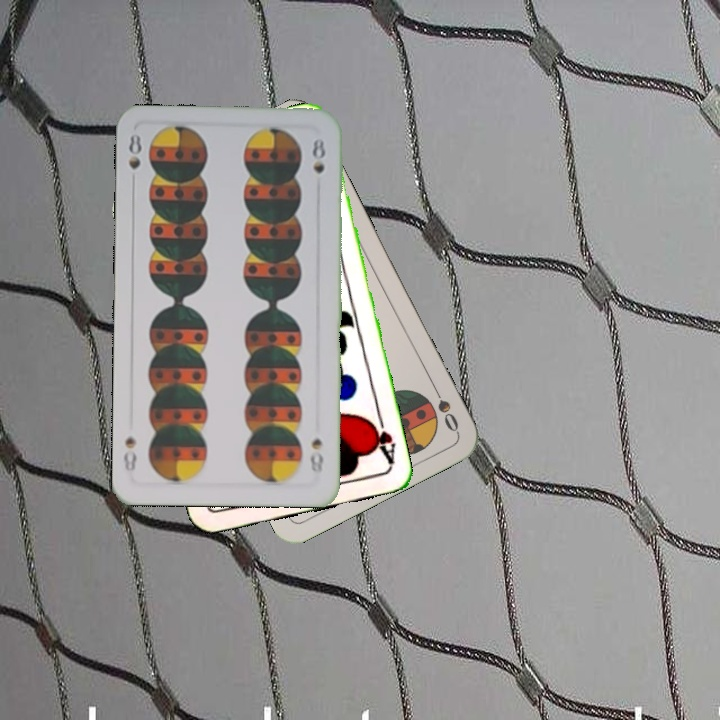HA: (365, 409, 398, 468)
S8: (124, 130, 144, 189), (306, 434, 326, 477)
SO: (427, 379, 462, 435)
